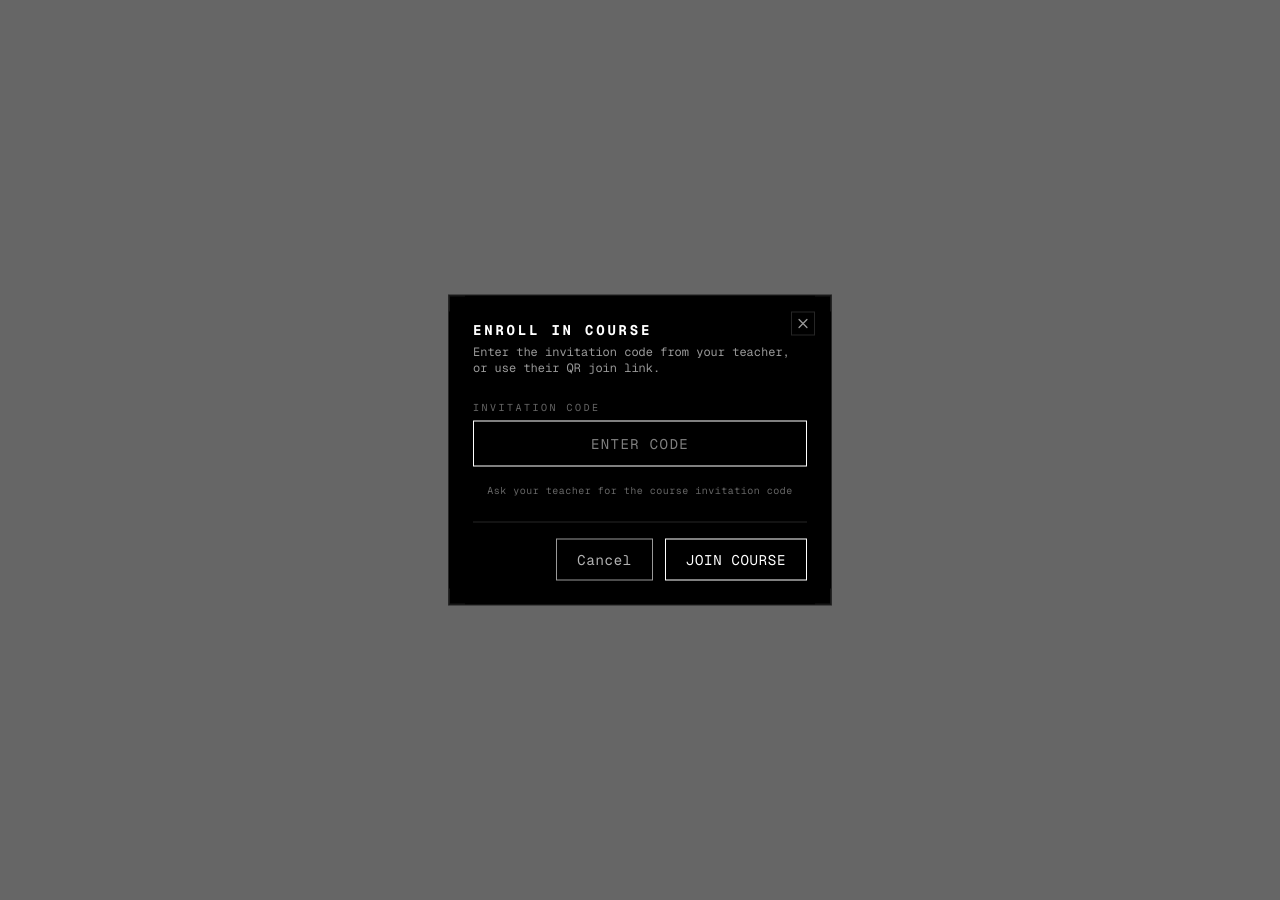
EnrollCourseModal › shows already-enrolled error
The width and height of the screenshot is (1280, 900).
Type "ABCDEF" into the field labelled "Invitation Code" at (640, 444), box [473,420,807,466]
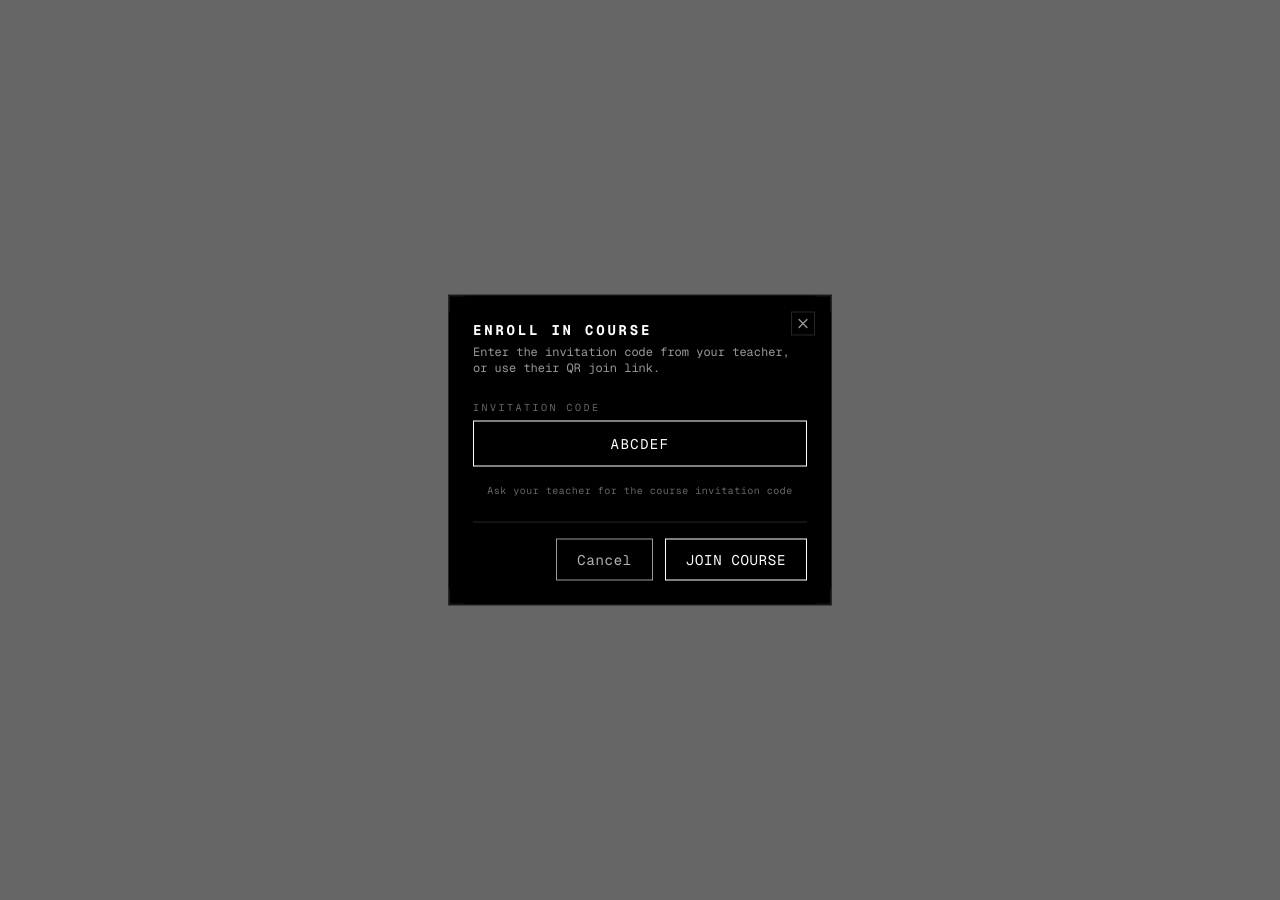
Click the button "JOIN COURSE" at (736, 560), box [665,538,807,580]
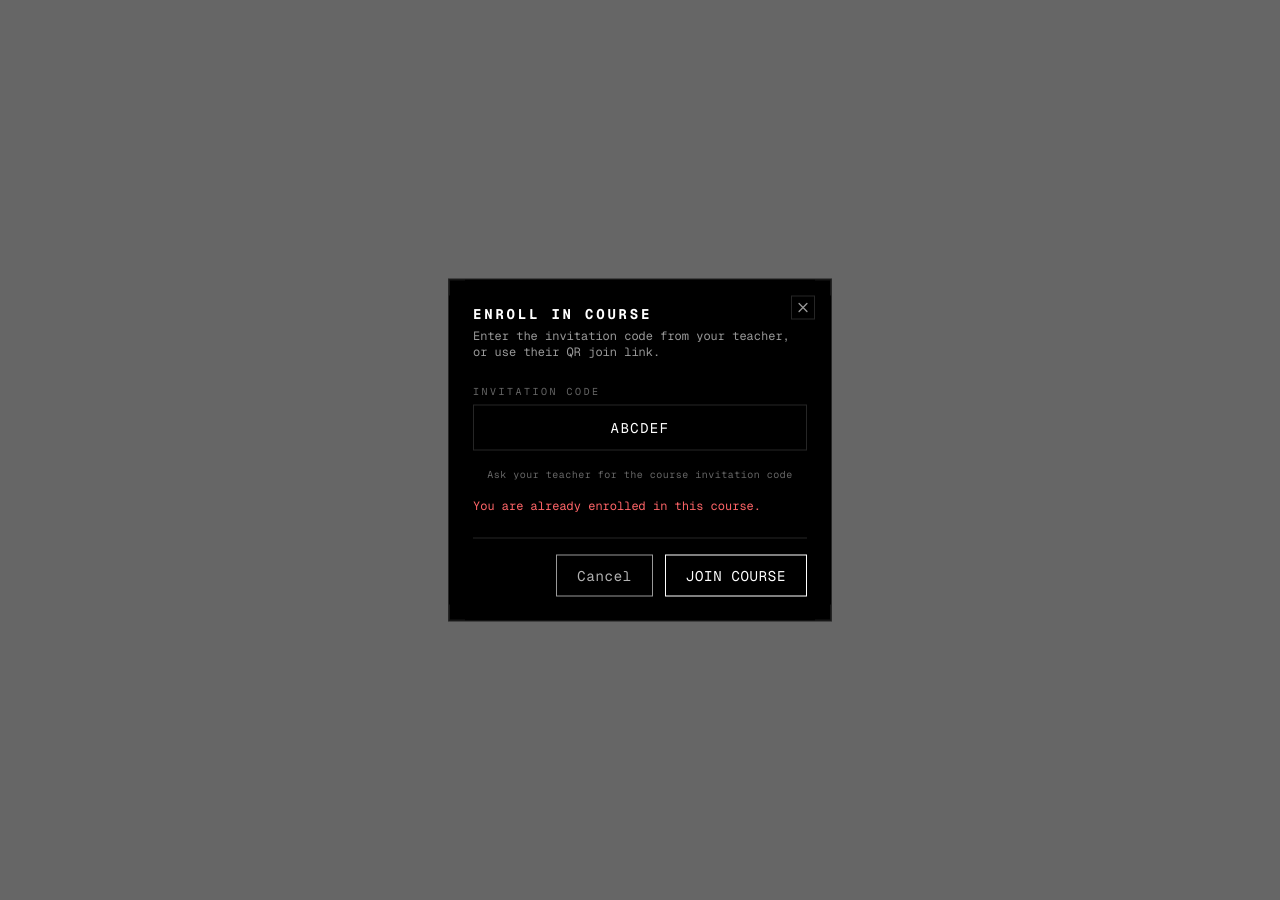
Check: the text "You are already enrolled in this course." is shown, box [473,498,807,514]
